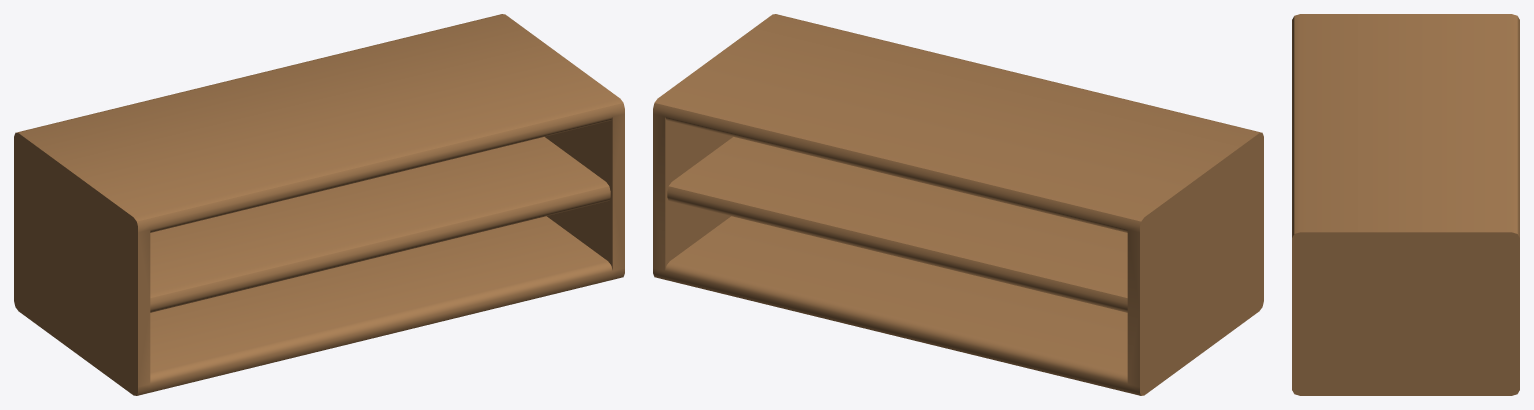
The model's file is Environment_Cabinet_Shelves.fbx.
3 renders of one model, left to right at view 1: azimuth 30°, elevation 25°; view 2: azimuth 150°, elevation 25°; view 3: azimuth 270°, elevation 25°, orthographic. The views are drawn at different scales.
Parts seen in each view (by area): view 1: Environment_Cabinet_Shelves; view 2: Environment_Cabinet_Shelves; view 3: Environment_Cabinet_Shelves.
Boxes of the visible parts, bbox=[...] form: Environment_Cabinet_Shelves: bbox=[14, 14, 624, 395]; Environment_Cabinet_Shelves: bbox=[653, 14, 1263, 395]; Environment_Cabinet_Shelves: bbox=[1292, 14, 1519, 395].
Bounding box in the file's own units: 400 × 140 × 177.
